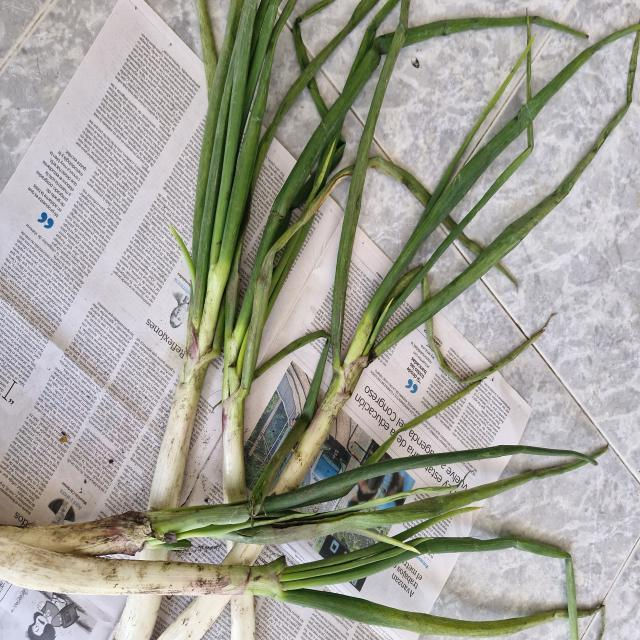green_onion: (252, 34, 419, 545), (150, 11, 306, 536), (0, 464, 546, 598)
